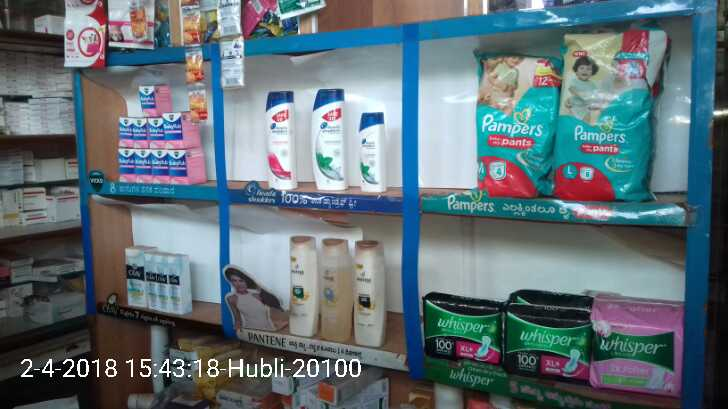vicks: (118, 84, 164, 186), (165, 150, 210, 183), (165, 111, 202, 148)
